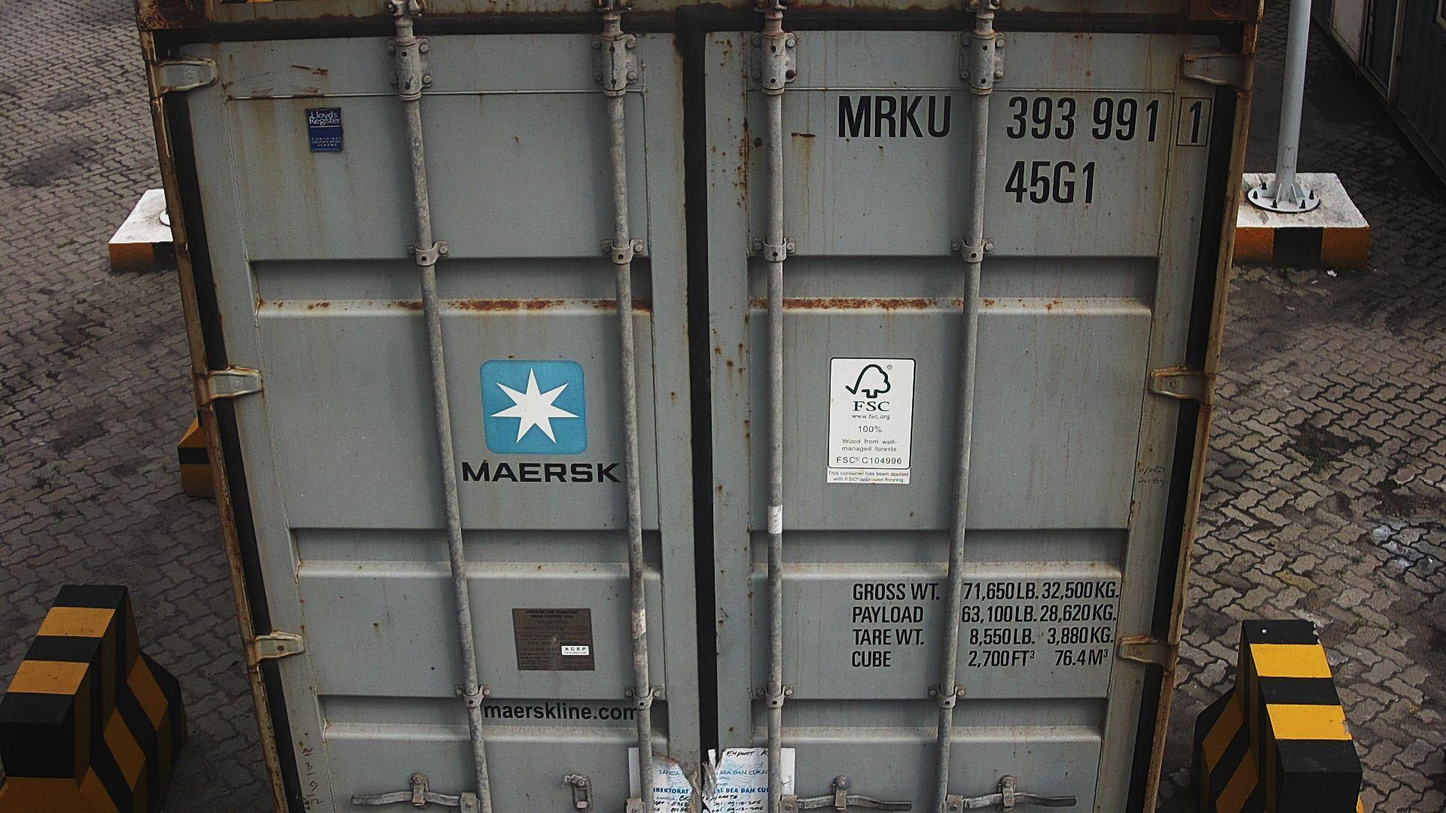container-numbers: (830, 90, 1215, 149), (1002, 157, 1103, 210)
